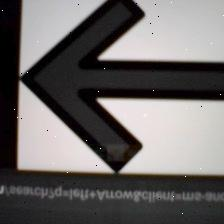left: (20, 3, 220, 173)
